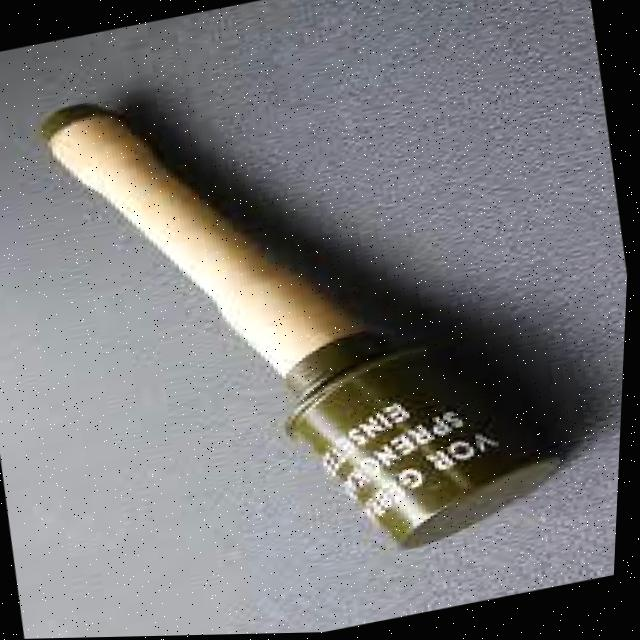grenade: (14, 19, 593, 614)
